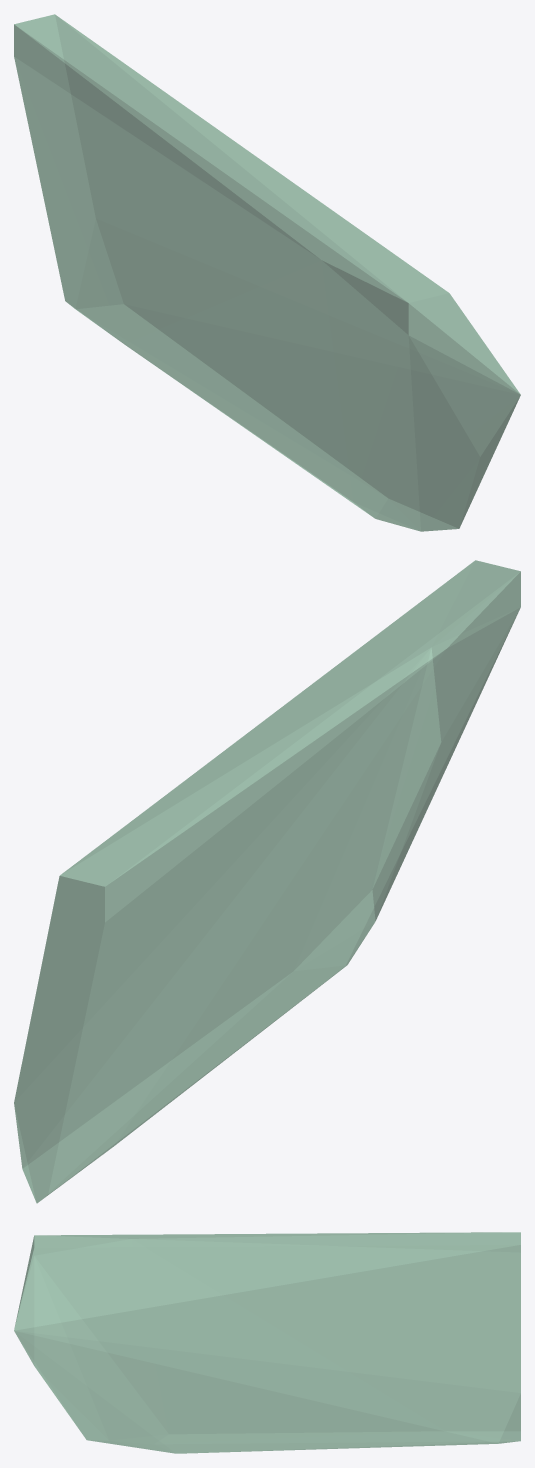
3 views of the same model, one above another, from view 1: azimuth 30°, elevation 25°; view 2: azimuth 150°, elevation 25°; view 3: azimuth 270°, elevation 25° (orthographic). The views are drawn at different scales.
Parts seen in each view (by area): view 1: Shape_IndexedFaceSet.018; view 2: Shape_IndexedFaceSet.018; view 3: Shape_IndexedFaceSet.018.
Boxes of the visible parts, box(x1,y1,x2,y2) form: Shape_IndexedFaceSet.018: box(14, 14, 520, 531); Shape_IndexedFaceSet.018: box(14, 560, 520, 1203); Shape_IndexedFaceSet.018: box(14, 1232, 520, 1453).
Bounding box in the file's own units: 0.0733 × 0.197 × 0.4764.
